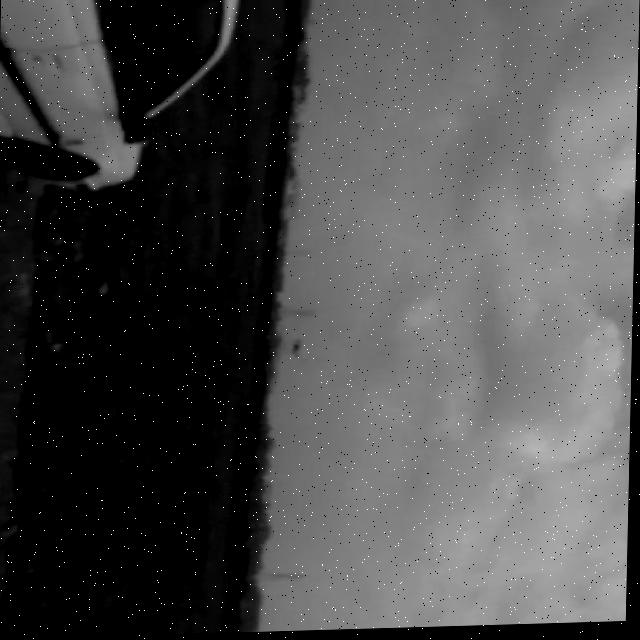drone: (290, 341, 309, 361)
